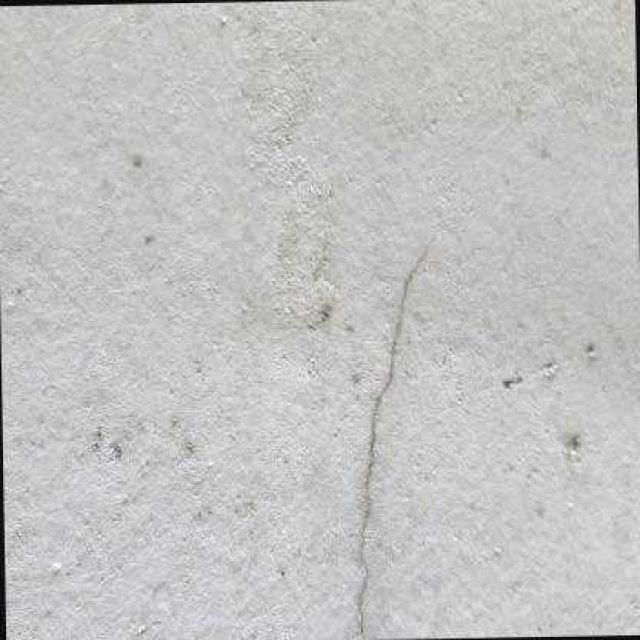D00: (353, 232, 436, 639)
